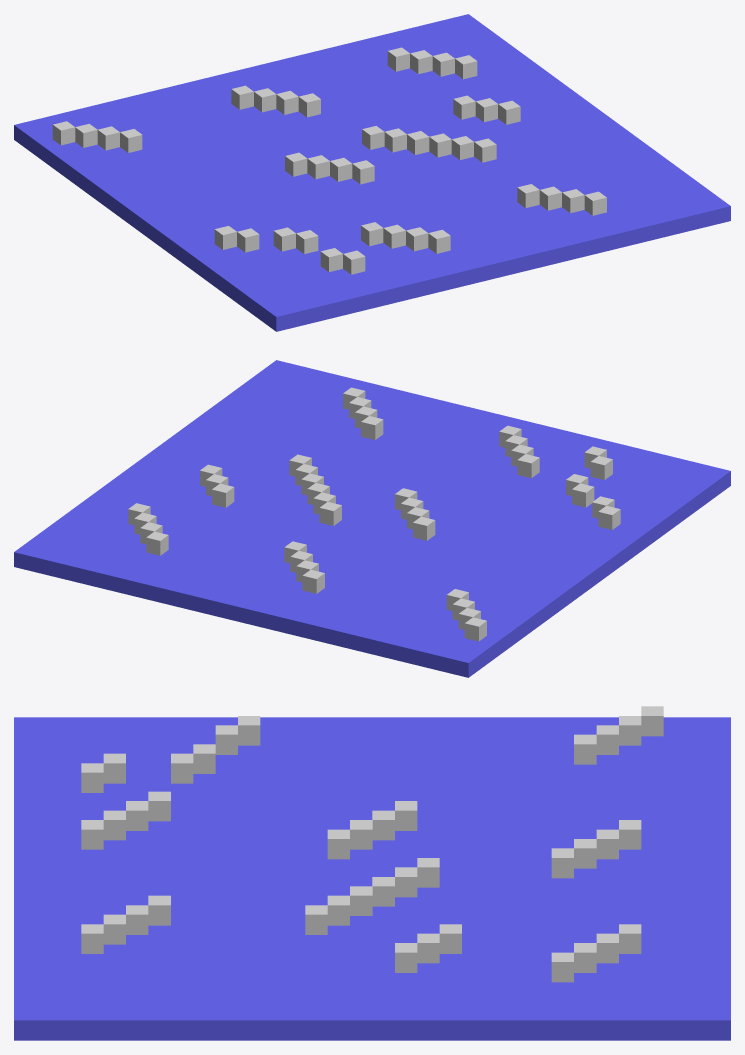
The model's file is water1.obj.
The picture shows the model from 3 angles, top to bottom: view 1: azimuth 30°, elevation 25°; view 2: azimuth 150°, elevation 25°; view 3: azimuth 270°, elevation 25°; orthographic projection. The views are drawn at different scales.
Size of the model in its own units: 32 by 2 by 32.
1 material, 1 textured.
